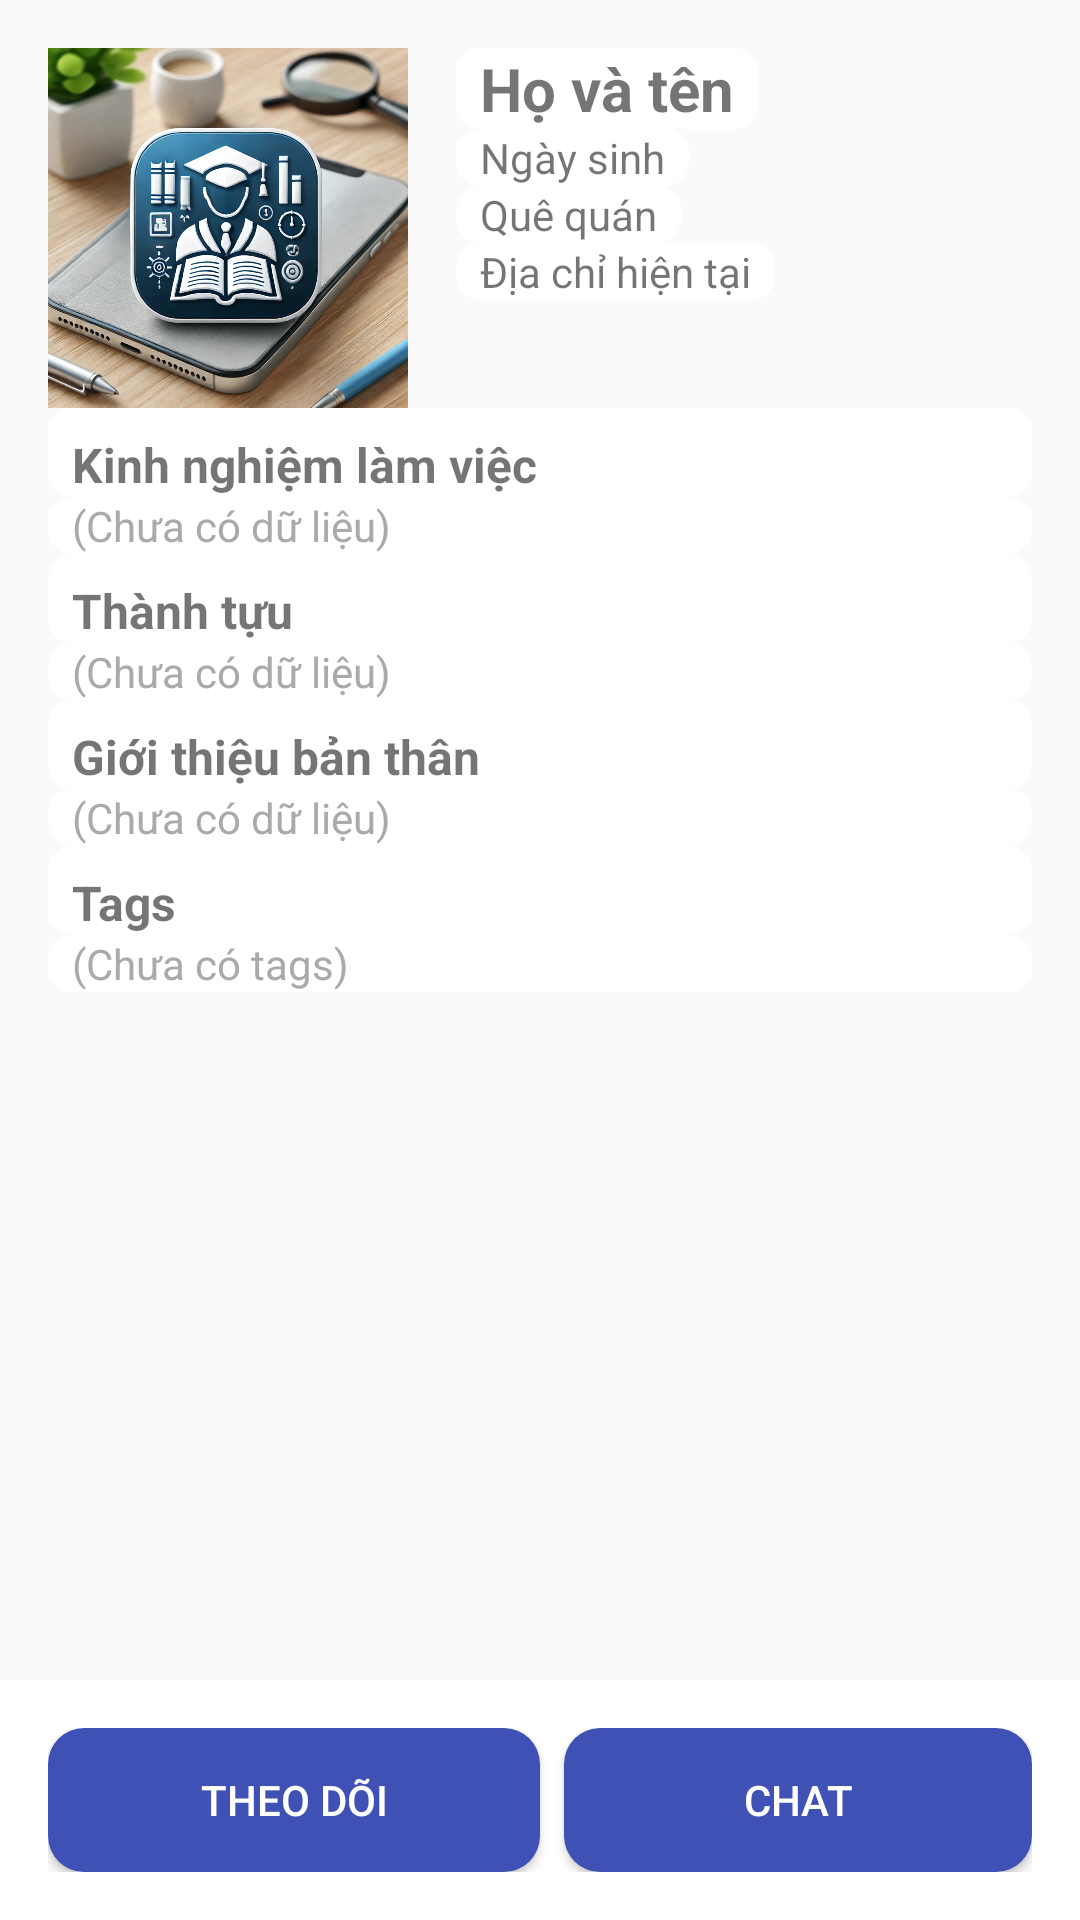

Where icons sit on this 1080w x 1920h app screen, as (x1, y1, x2, y2):
user: (48, 48, 408, 408)
